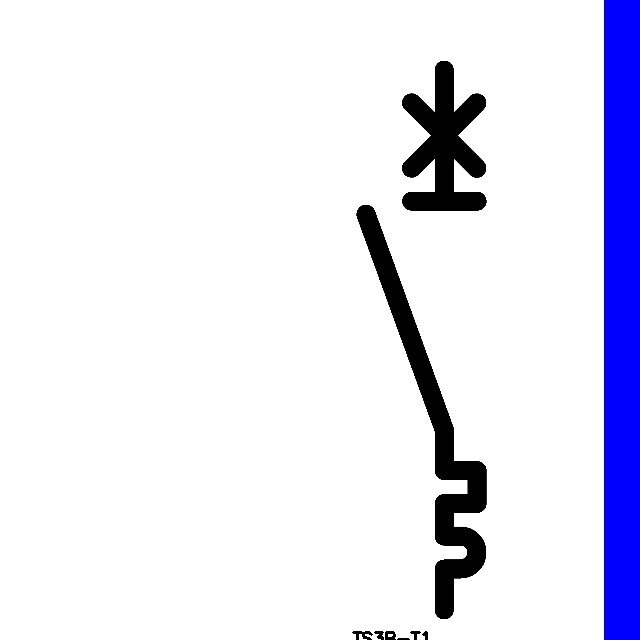interruptor_termomagnetico: (352, 56, 491, 624)
